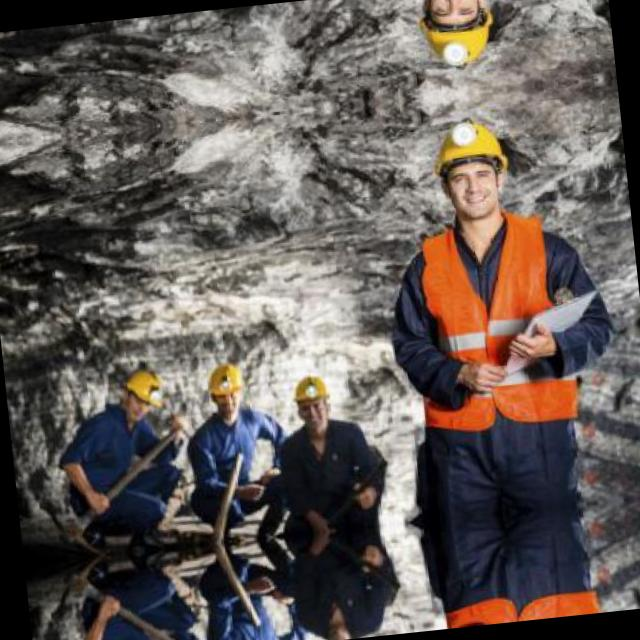helmet: (418, 102, 518, 235), (404, 0, 503, 86), (116, 363, 168, 417), (289, 368, 333, 430), (203, 357, 247, 418)
